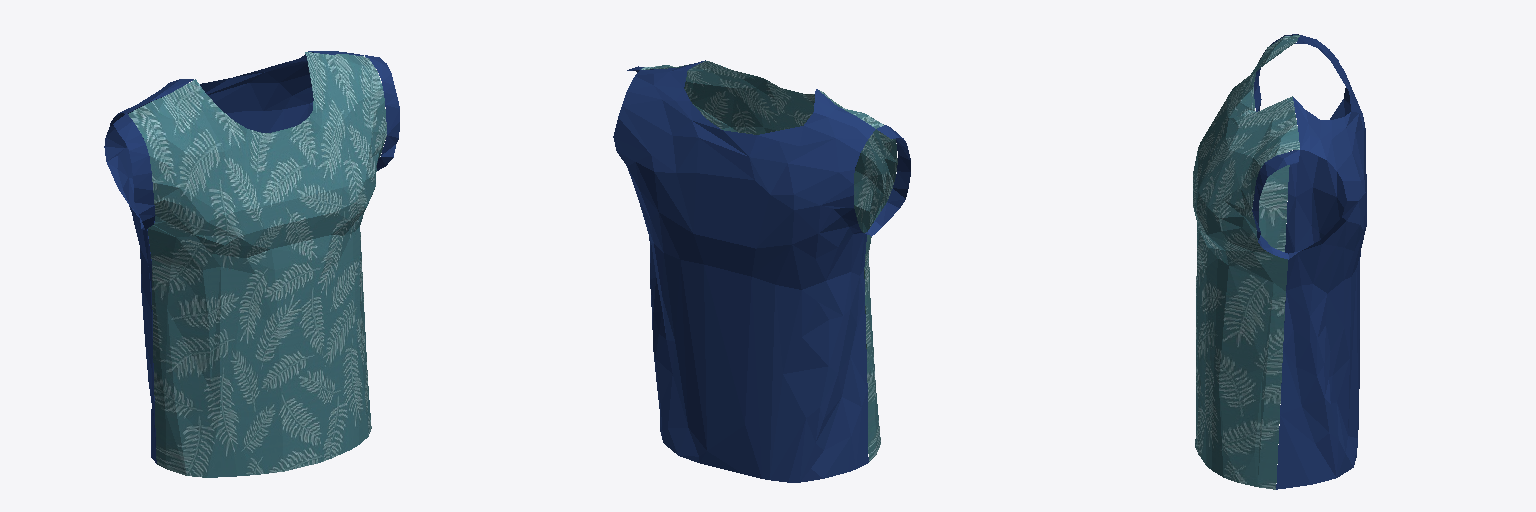
The picture shows the model from 3 angles: view 1: azimuth 30°, elevation 25°; view 2: azimuth 150°, elevation 25°; view 3: azimuth 270°, elevation 25°; orthographic projection.
Parts seen in each view (by area): view 1: T_shirt.005; view 2: T_shirt.005; view 3: T_shirt.005.
Part boxes in pixels (x1,y1,x2,y2): T_shirt.005: (104,51,399,477); T_shirt.005: (613,60,910,482); T_shirt.005: (1193,34,1366,489).
Bounding box in the file's own units: 0.2935 × 0.3892 × 0.1639.
2 materials, 1 textured.